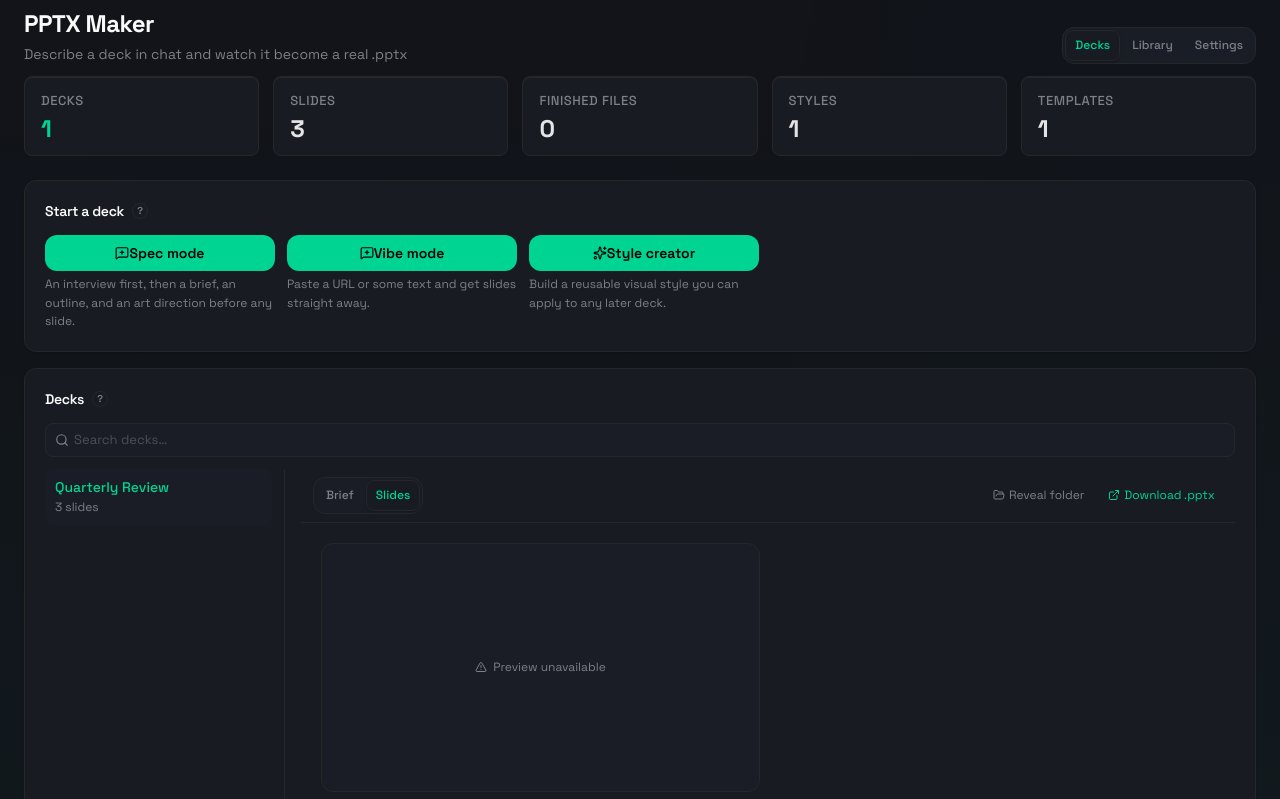
PptxMakerPage › shows the deck output directory in settings
Check: the element with test id "page-header" is shown, box [0,0,1279,76]
Click the button "Settings" at {"x": 1219, "y": 46}, box [1185,30,1253,61]
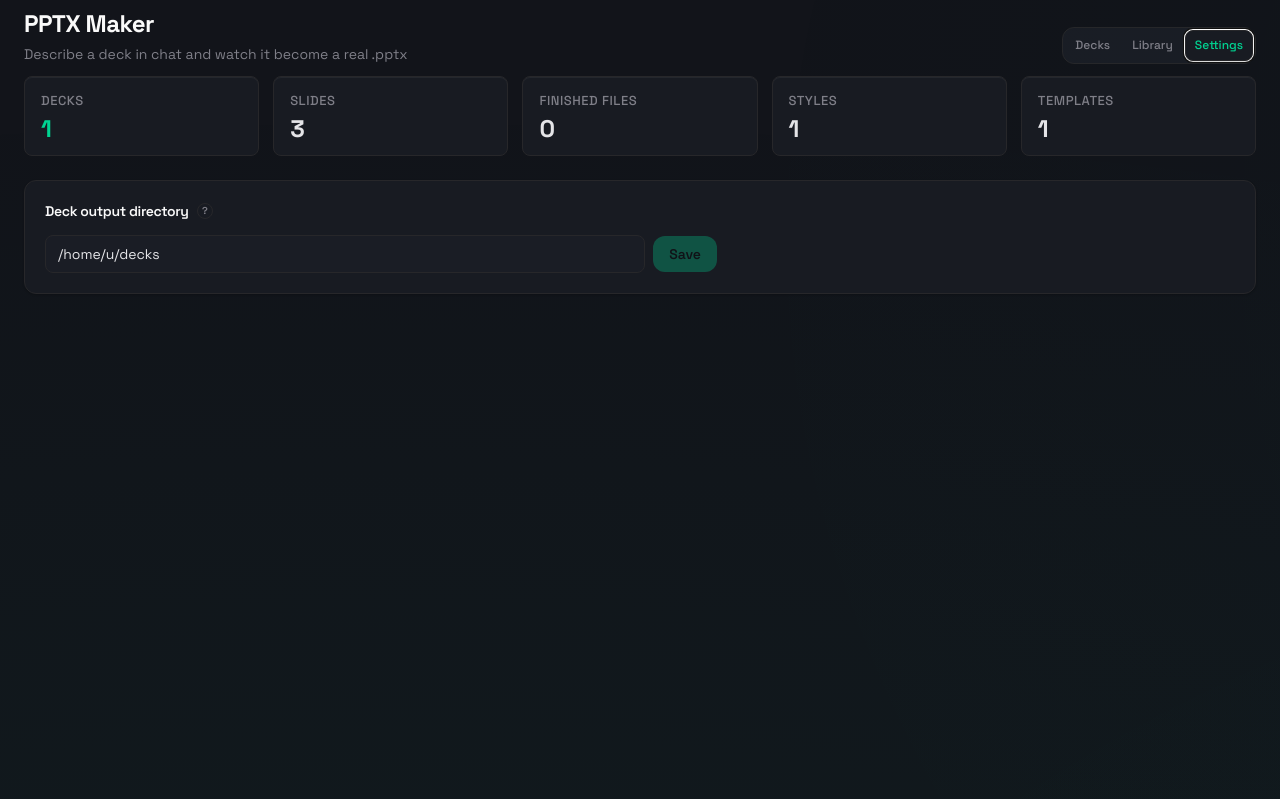
Check: the field showing "/home/u/decks" is shown, box [45,235,645,273]
